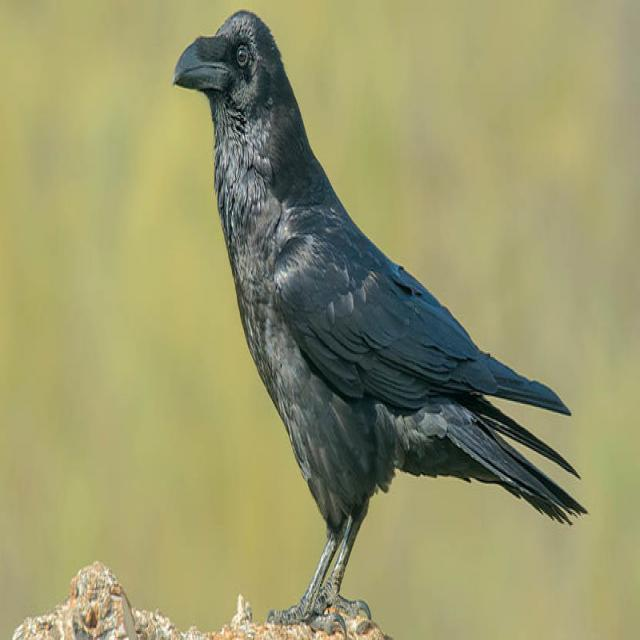crow: (158, 6, 600, 640)
